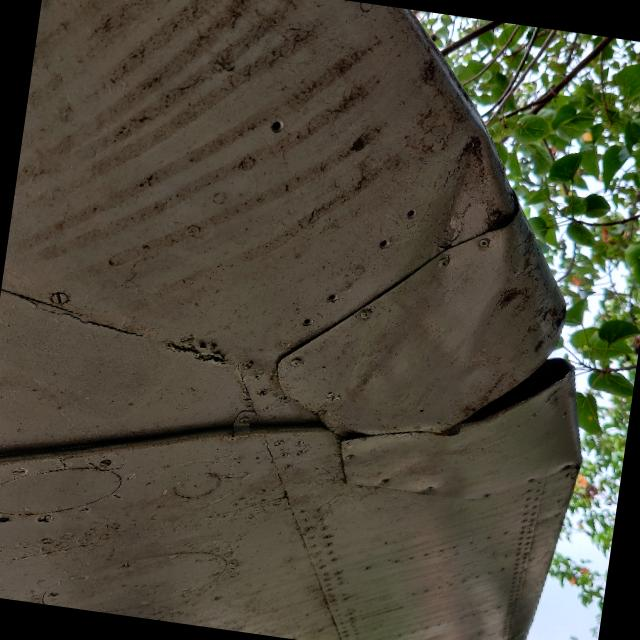dent: (320, 149, 556, 451)
